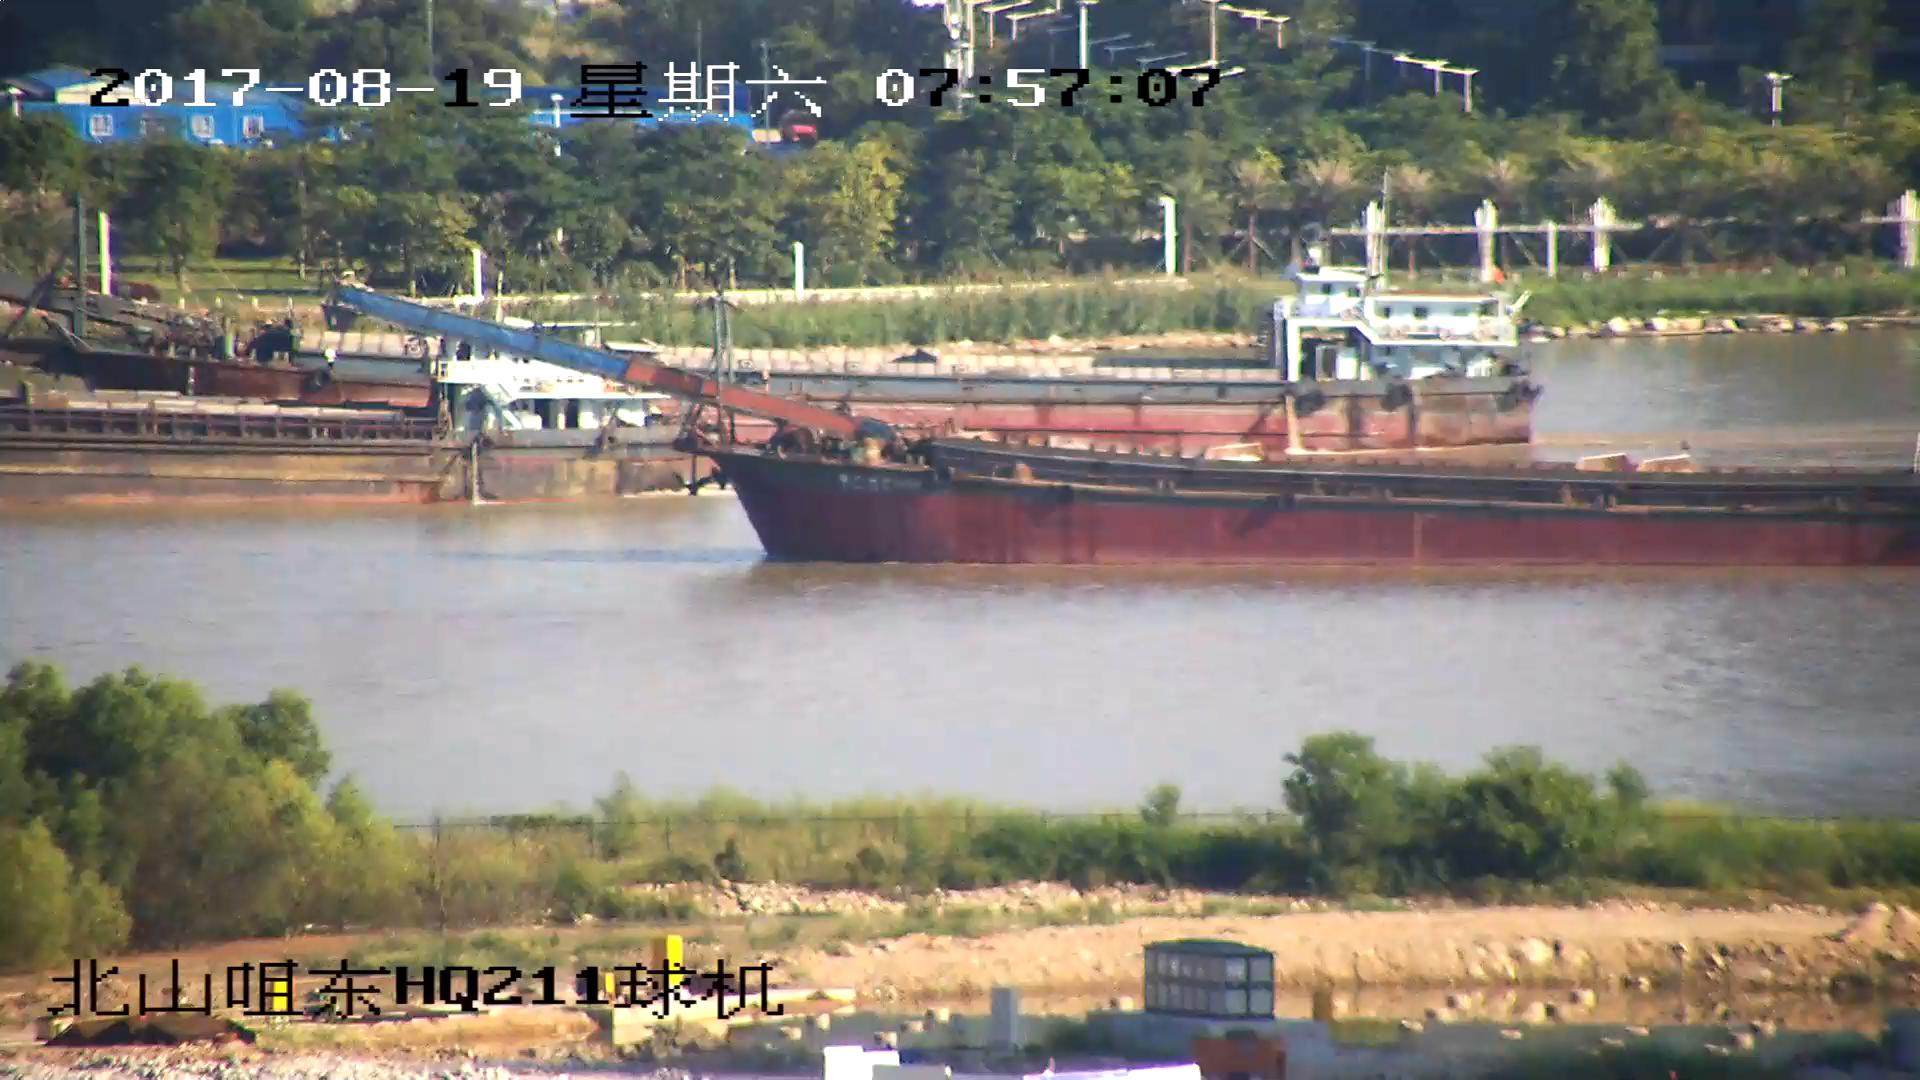bulk cargo carrier: (339, 285, 1920, 572), (1, 187, 1542, 452), (1, 361, 692, 516)
